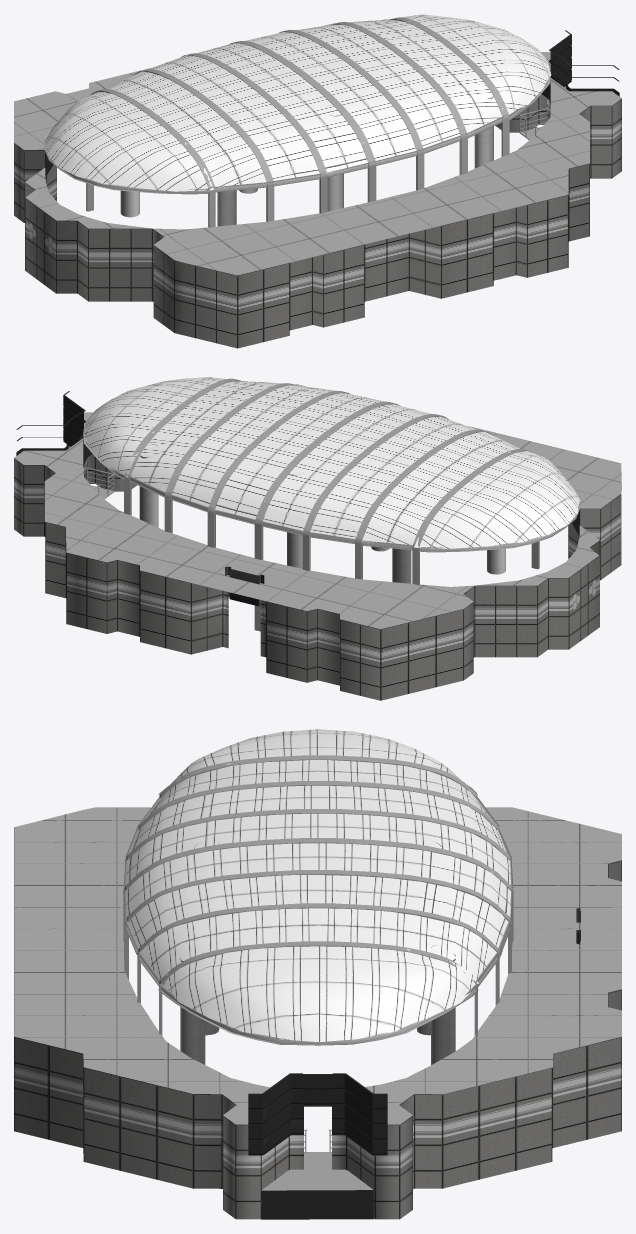
The model's file is EndLevel2.fbx.
3 renders of one model, top to bottom at view 1: azimuth 30°, elevation 25°; view 2: azimuth 150°, elevation 25°; view 3: azimuth 270°, elevation 25°, orthographic. The views are drawn at different scales.
Parts seen in each view (by area): view 1: GlassCeiling:EndLevel:polySurface1, polySurface45, GlassCeiling:EndLevel:polySurface106, GlassCeiling:EndLevel:polySurface111, GlassCeiling:EndLevel:polySurface107, GlassCeiling:EndLevel:polySurface115, GlassCeiling:EndLevel:polySurface102, GlassCeiling:EndLevel:polySurface98, GlassCeiling:EndLevel:polySurface93, GlassCeiling:EndLevel:polySurface94, GlassCeiling:EndLevel:polySurface15, GlassCeiling:EndLevel:polySurface89 (+9 smaller); view 2: GlassCeiling:EndLevel:polySurface1, polySurface45, GlassCeiling:EndLevel:polySurface106, GlassCeiling:EndLevel:polySurface107, GlassCeiling:EndLevel:polySurface111, GlassCeiling:EndLevel:polySurface115, GlassCeiling:EndLevel:polySurface102, GlassCeiling:EndLevel:polySurface93, GlassCeiling:EndLevel:polySurface98, GlassCeiling:EndLevel:polySurface94, GlassCeiling:EndLevel:polySurface89, GlassCeiling:EndLevel:polySurface15 (+10 smaller); view 3: polySurface45, GlassCeiling:EndLevel:polySurface1, GlassCeiling:EndLevel:polySurface93, GlassCeiling:EndLevel:polySurface94, GlassCeiling:EndLevel:polySurface98, GlassCeiling:EndLevel:polySurface102, GlassCeiling:EndLevel:polySurface115, GlassCeiling:EndLevel:polySurface111, GlassCeiling:EndLevel:polySurface107, GlassCeiling:EndLevel:polySurface106, GlassCeiling:EndLevel:pCube7, GlassCeiling:EndLevel:polySurface88 (+10 smaller).
Boxes of the visible parts, left/top/right/bottom form: GlassCeiling:EndLevel:polySurface1: left=14, top=84, right=621, bottom=348; polySurface45: left=14, top=23, right=621, bottom=275; GlassCeiling:EndLevel:polySurface106: left=44, top=92, right=213, bottom=191; GlassCeiling:EndLevel:polySurface111: left=148, top=55, right=319, bottom=180; GlassCeiling:EndLevel:polySurface107: left=106, top=71, right=266, bottom=188; GlassCeiling:EndLevel:polySurface115: left=197, top=43, right=367, bottom=173; GlassCeiling:EndLevel:polySurface102: left=245, top=32, right=416, bottom=160; GlassCeiling:EndLevel:polySurface98: left=296, top=24, right=460, bottom=148; GlassCeiling:EndLevel:polySurface93: left=394, top=14, right=551, bottom=114; GlassCeiling:EndLevel:polySurface94: left=349, top=20, right=501, bottom=133; GlassCeiling:EndLevel:polySurface15: left=120, top=19, right=493, bottom=226; GlassCeiling:EndLevel:polySurface89: left=45, top=58, right=550, bottom=194; GlassCeiling:EndLevel:polySurface1: left=14, top=444, right=621, bottom=700; polySurface45: left=14, top=384, right=621, bottom=629; GlassCeiling:EndLevel:polySurface106: left=414, top=451, right=580, bottom=548; GlassCeiling:EndLevel:polySurface107: left=362, top=431, right=519, bottom=545; GlassCeiling:EndLevel:polySurface111: left=310, top=416, right=476, bottom=539; GlassCeiling:EndLevel:polySurface115: left=263, top=404, right=430, bottom=532; GlassCeiling:EndLevel:polySurface102: left=211, top=393, right=383, bottom=519; GlassCeiling:EndLevel:polySurface93: left=83, top=377, right=225, bottom=477; GlassCeiling:EndLevel:polySurface98: left=172, top=385, right=336, bottom=506; GlassCeiling:EndLevel:polySurface94: left=131, top=381, right=282, bottom=491; GlassCeiling:EndLevel:polySurface89: left=83, top=425, right=579, bottom=552; GlassCeiling:EndLevel:polySurface15: left=139, top=381, right=505, bottom=583; polySurface45: left=14, top=807, right=621, bottom=1124; GlassCeiling:EndLevel:polySurface1: left=14, top=860, right=621, bottom=1219; GlassCeiling:EndLevel:polySurface93: left=163, top=946, right=478, bottom=1041; GlassCeiling:EndLevel:polySurface94: left=140, top=908, right=496, bottom=979; GlassCeiling:EndLevel:polySurface98: left=128, top=875, right=508, bottom=949; GlassCeiling:EndLevel:polySurface102: left=126, top=843, right=510, bottom=917; GlassCeiling:EndLevel:polySurface115: left=126, top=813, right=510, bottom=884; GlassCeiling:EndLevel:polySurface111: left=130, top=785, right=505, bottom=851; GlassCeiling:EndLevel:polySurface107: left=147, top=760, right=489, bottom=817; GlassCeiling:EndLevel:polySurface106: left=159, top=729, right=478, bottom=796; GlassCeiling:EndLevel:pCube7: left=261, top=1170, right=373, bottom=1219; GlassCeiling:EndLevel:polySurface88: left=248, top=1073, right=387, bottom=1124.
Size of the model in its own units: 51.5 by 13.3 by 37.86.
